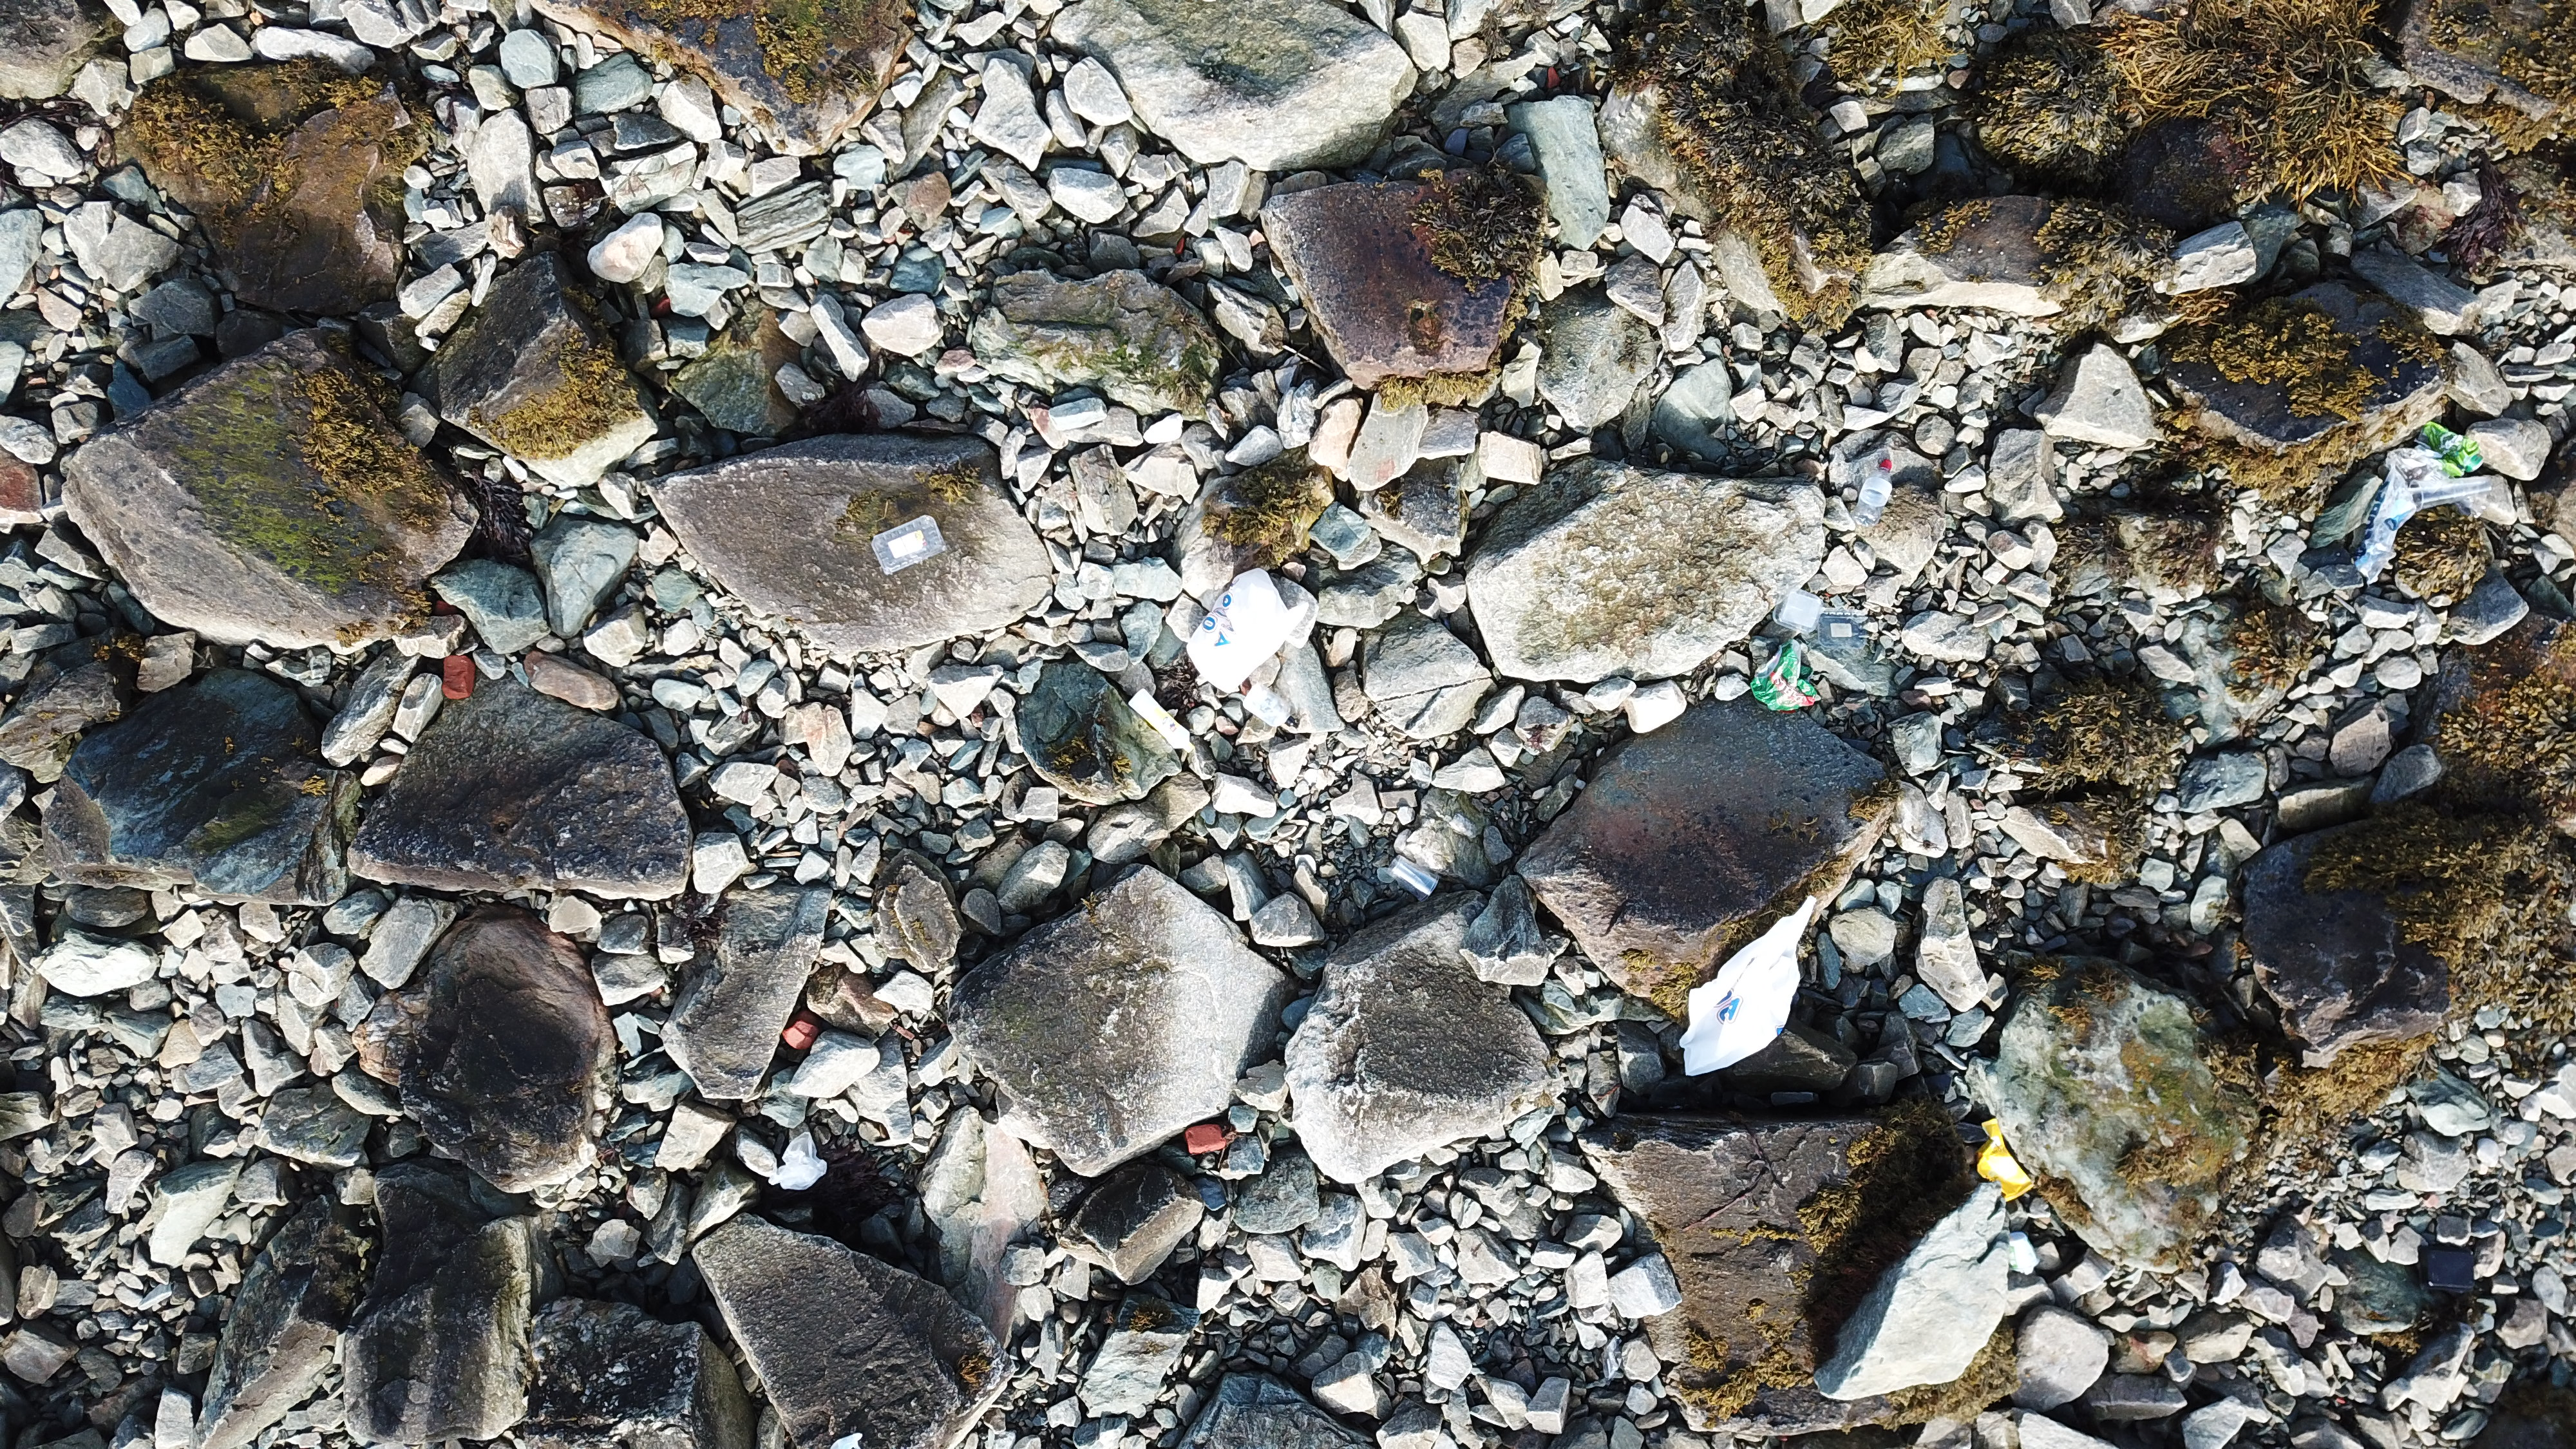Can: (2457, 451, 2484, 479)
Plastic: (1679, 895, 1817, 1077), (1185, 568, 1311, 697), (2357, 469, 2417, 586), (1750, 639, 1822, 713), (1976, 1116, 2035, 1201), (870, 513, 948, 575), (1129, 688, 1196, 754), (2415, 423, 2479, 487), (770, 1132, 828, 1191), (1242, 685, 1302, 731), (2413, 476, 2491, 511), (1813, 607, 1872, 653), (1387, 855, 1440, 902), (1773, 587, 1822, 633), (2383, 446, 2436, 488), (2003, 1231, 2042, 1276), (832, 1433, 865, 1449)
PlasticBottle: (1851, 458, 1891, 527)
